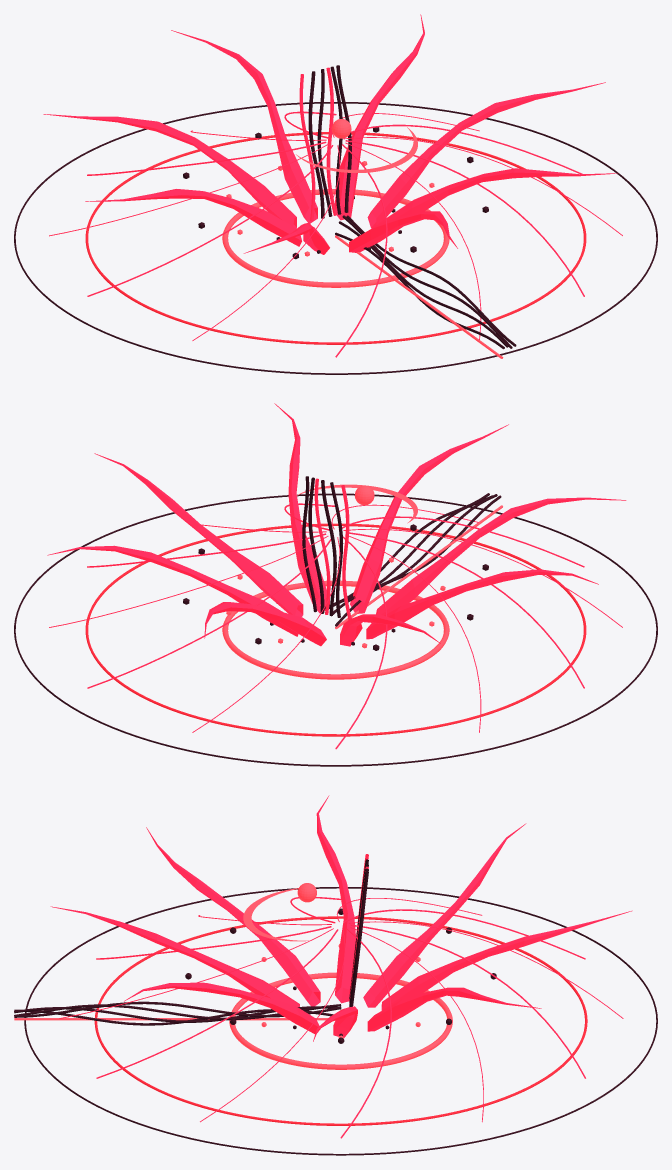
File: Revenant_VFX.glb
3 views of the same model, one above another, from view 1: azimuth 30°, elevation 25°; view 2: azimuth 150°, elevation 25°; view 3: azimuth 270°, elevation 25° (orthographic).
Visible parts, largest first — view 1: ULT_Telegraph, ULT_Falloff, ULT_Spear_00, ULT_Spear_03, ULT_Spear_02, ULT_Shockwave, ULT_Spear_01, ULT_Spear_04, ULT_Spear_07, ULT_Spear_06, ULT_Spear_05, TP_Crimson_Path (+12 smaller); view 2: ULT_Telegraph, ULT_Falloff, ULT_Spear_00, ULT_Spear_06, ULT_Spear_05, ULT_Shockwave, ULT_Spear_04, ULT_Spear_07, ULT_Spear_01, ULT_Spear_02, ULT_Spear_03, ULT_Thread_06 (+8 smaller); view 3: ULT_Telegraph, ULT_Falloff, ULT_Spear_03, ULT_Spear_05, ULT_Shockwave, ULT_Spear_02, ULT_Spear_04, ULT_Spear_06, ULT_Spear_07, ULT_Spear_01, TP_Ribbon_3, TP_Ribbon_2 (+8 smaller).
Part boxes in pixels (x1,y1,x2,y2): ULT_Telegraph: (85,132,586,344); ULT_Falloff: (14,102,657,374); ULT_Spear_00: (367,82,605,228); ULT_Spear_03: (43,114,296,228); ULT_Spear_02: (171,30,317,223); ULT_Shockwave: (222,189,449,287); ULT_Spear_01: (334,14,424,220); ULT_Spear_04: (85,189,301,246); ULT_Spear_07: (377,168,617,224); ULT_Spear_06: (349,211,457,252); ULT_Spear_05: (243,222,329,254); TP_Crimson_Path: (335,235,503,358); ULT_Telegraph: (85,523,586,736); ULT_Falloff: (14,493,657,766); ULT_Spear_00: (94,453,303,616); ULT_Spear_06: (350,424,508,613); ULT_Spear_05: (376,497,626,615); ULT_Shockwave: (222,580,449,679); ULT_Spear_04: (366,569,598,639); ULT_Spear_07: (274,403,329,613); ULT_Spear_01: (47,545,298,636); ULT_Spear_02: (204,602,326,646); ULT_Spear_03: (340,614,440,646); ULT_Thread_06: (349,532,584,688); ULT_Telegraph: (94,916,587,1125); ULT_Falloff: (24,887,657,1155); ULT_Spear_03: (363,823,526,1007); ULT_Spear_05: (146,827,320,1006); ULT_Shockwave: (229,972,452,1069); ULT_Spear_02: (381,910,632,1010); ULT_Spear_04: (316,795,355,1003); ULT_Spear_06: (50,906,299,1006); ULT_Spear_07: (124,982,320,1033); ULT_Spear_01: (367,987,541,1031); TP_Ribbon_3: (14,1001,341,1017); TP_Ribbon_2: (14,1004,341,1020).
Size of the model in its own units: 5.82 by 1.62 by 5.91.
